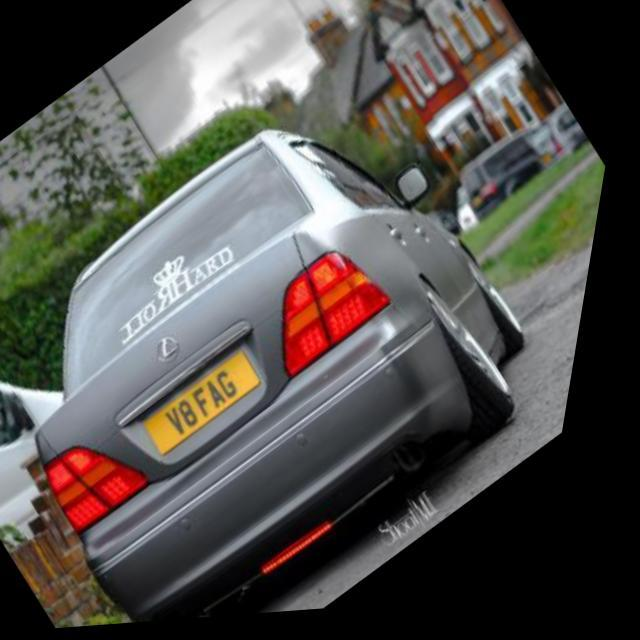license_plate: (152, 352, 281, 462)
